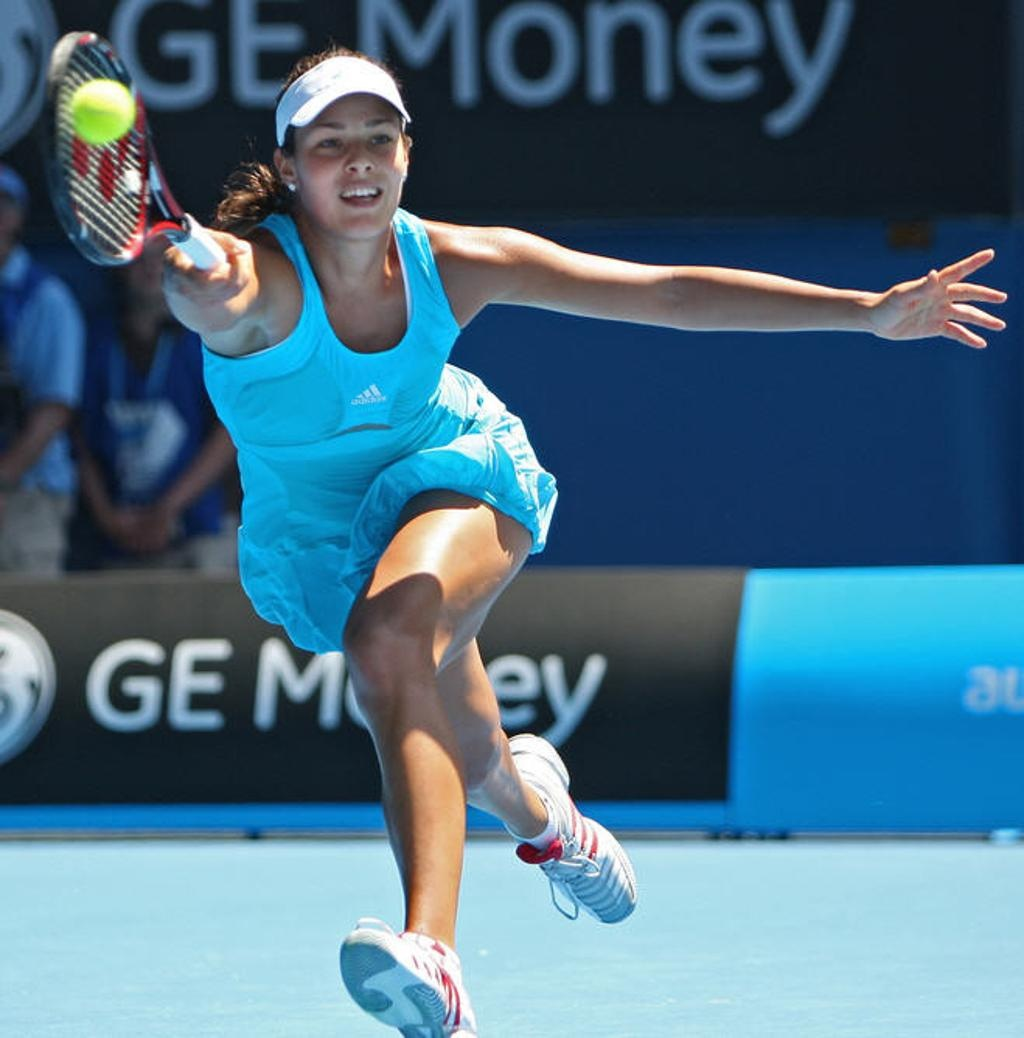face: (294, 85, 406, 237)
